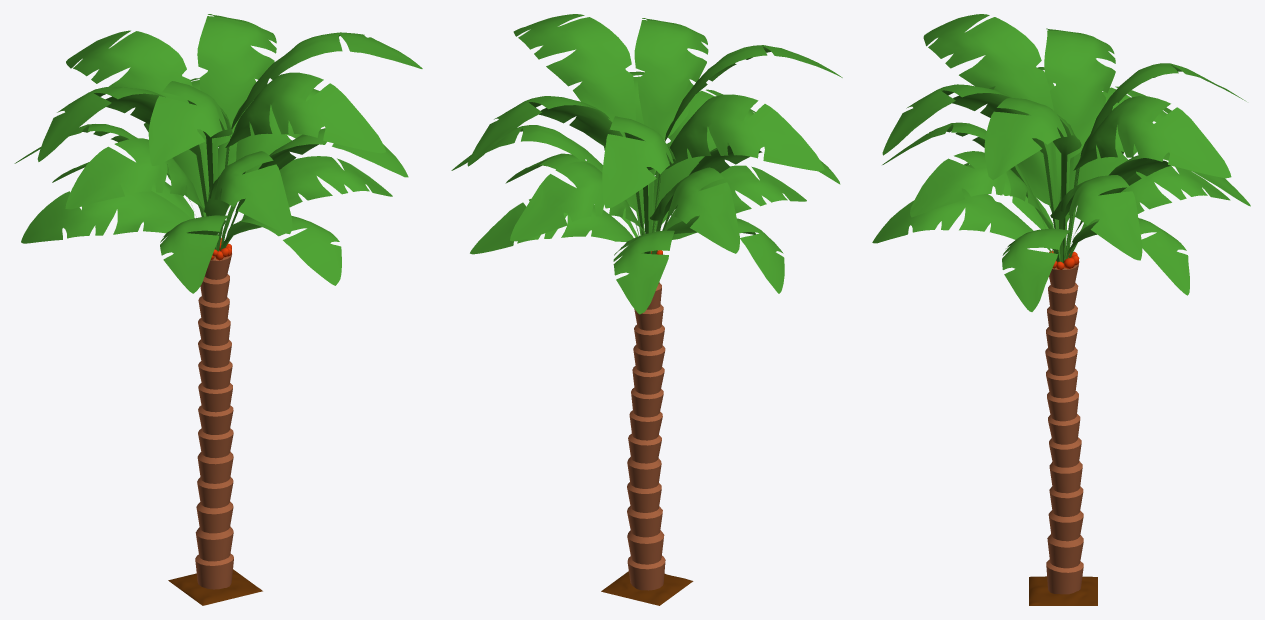
File: oil-palm-p5-bloom.glb
3 views of the same model, side by side, from view 1: azimuth 30°, elevation 25°; view 2: azimuth 150°, elevation 25°; view 3: azimuth 270°, elevation 25° (orthographic). The views are drawn at different scales.
Parts seen in each view (by area): view 1: 5_nft_bloom; view 2: 5_nft_bloom; view 3: 5_nft_bloom.
Part boxes in pixels (box(x1,y1,x2,y2)): 5_nft_bloom: box(14, 14, 422, 605); 5_nft_bloom: box(451, 14, 842, 605); 5_nft_bloom: box(872, 14, 1250, 605).
Bounding box in the file's own units: 8.12 × 11.96 × 7.71.
